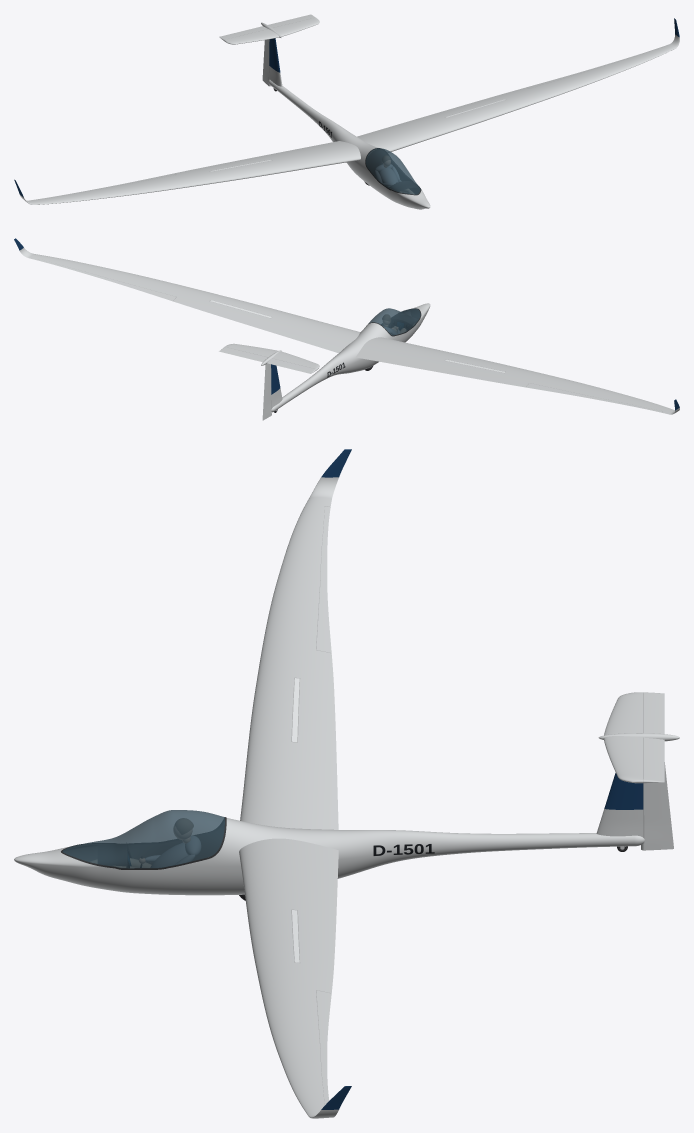
The model's file is glider.glb.
The picture shows the model from 3 angles, top to bottom: view 1: azimuth 30°, elevation 25°; view 2: azimuth 150°, elevation 25°; view 3: azimuth 270°, elevation 25°; orthographic projection. The views are drawn at different scales.
Visible parts, largest first — view 1: body, pilot, glider-hinge-elevator; view 2: body, glider-hinge-elevator, glider-hinge-aileronL, glider-hinge-aileronR, glider-hinge-rudder; view 3: body, glider-hinge-rudder, glider-hinge-elevator, pilot, glider-hinge-aileronR, glider-hinge-aileronL.
Part boxes in pixels (x1,y1,x2,y2): body: (14,17,679,209); pilot: (375,156,413,193); glider-hinge-elevator: (219,14,315,40); body: (14,238,679,414); glider-hinge-elevator: (219,347,316,373); glider-hinge-aileronL: (37,259,175,301); glider-hinge-aileronR: (526,383,662,412); glider-hinge-rudder: (262,363,271,420); body: (14,449,679,1118); glider-hinge-rudder: (641,762,673,850); glider-hinge-elevator: (643,692,664,783); pilot: (91,818,200,867); glider-hinge-aileronR: (316,506,331,652); glider-hinge-aileronL: (316,990,331,1105).
Bounding box in the file's own units: 15.16 × 1.88 × 6.7.
20 materials, 2 textured.
